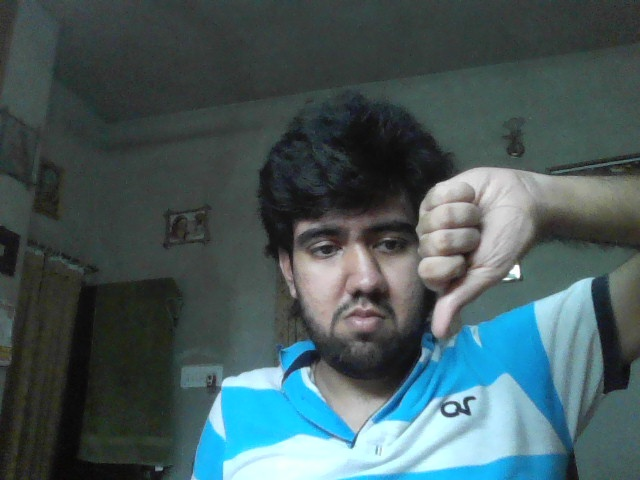NotOk: (417, 167, 525, 339)
